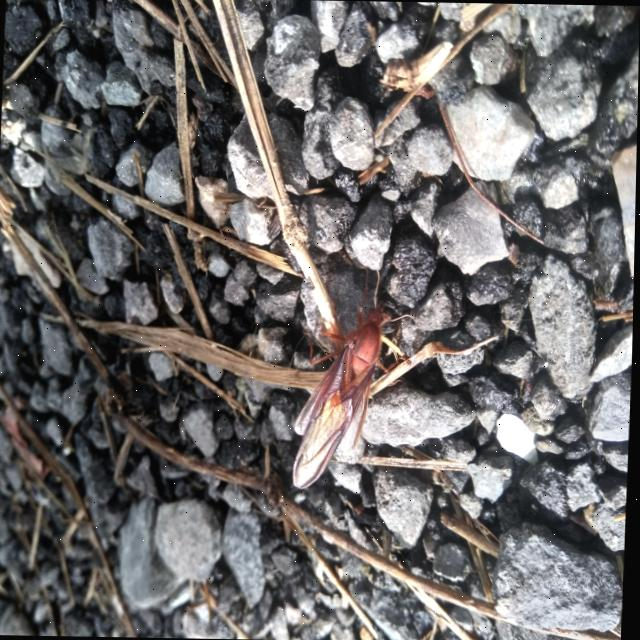Alive-Male-Alate: (293, 265, 427, 493)
